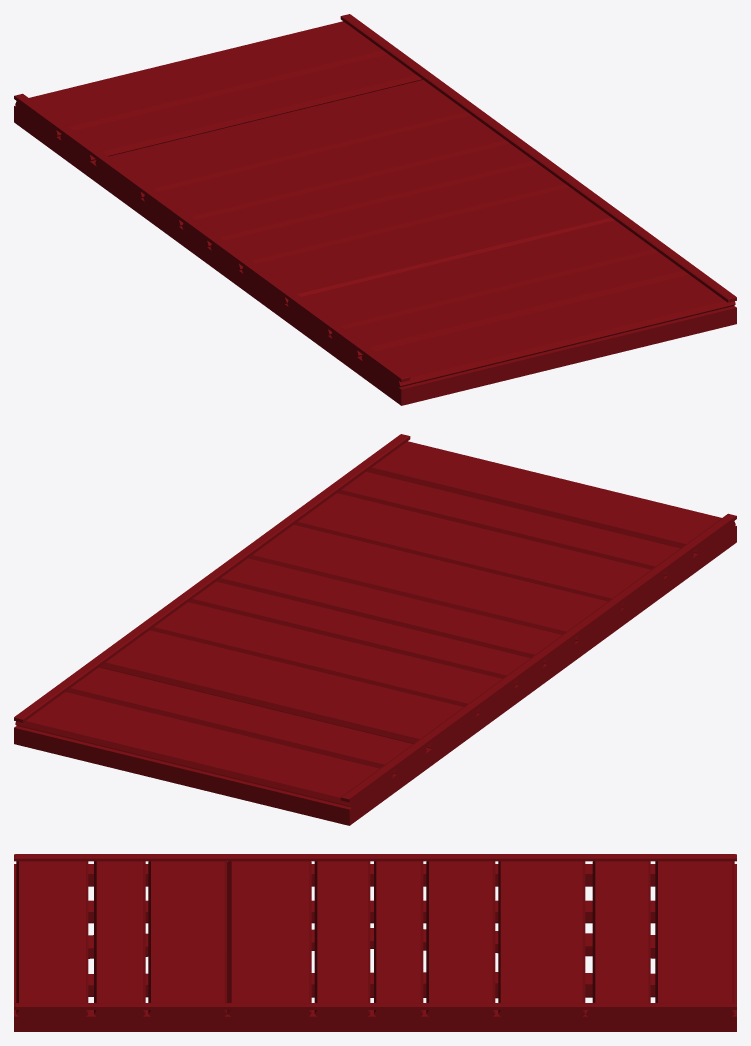
Rendered from SM_MH_01_Wood_Floor_01_Half_02.fbx.
3 views of the same model, one above another, from view 1: azimuth 30°, elevation 25°; view 2: azimuth 150°, elevation 25°; view 3: azimuth 270°, elevation 25° (orthographic). The views are drawn at different scales.
Visible parts, largest first — view 1: SM_MH_01_Wood_Floor_01_Half_02_LOD0; view 2: SM_MH_01_Wood_Floor_01_Half_02_LOD0; view 3: SM_MH_01_Wood_Floor_01_Half_02_LOD0.
Part boxes in pixels (left/top/right/bottom): SM_MH_01_Wood_Floor_01_Half_02_LOD0: left=14, top=14, right=736, bottom=405; SM_MH_01_Wood_Floor_01_Half_02_LOD0: left=14, top=434, right=736, bottom=825; SM_MH_01_Wood_Floor_01_Half_02_LOD0: left=14, top=854, right=736, bottom=1031.
Size of what is drawn, in the model's own units: 150 by 11.8 by 300.
